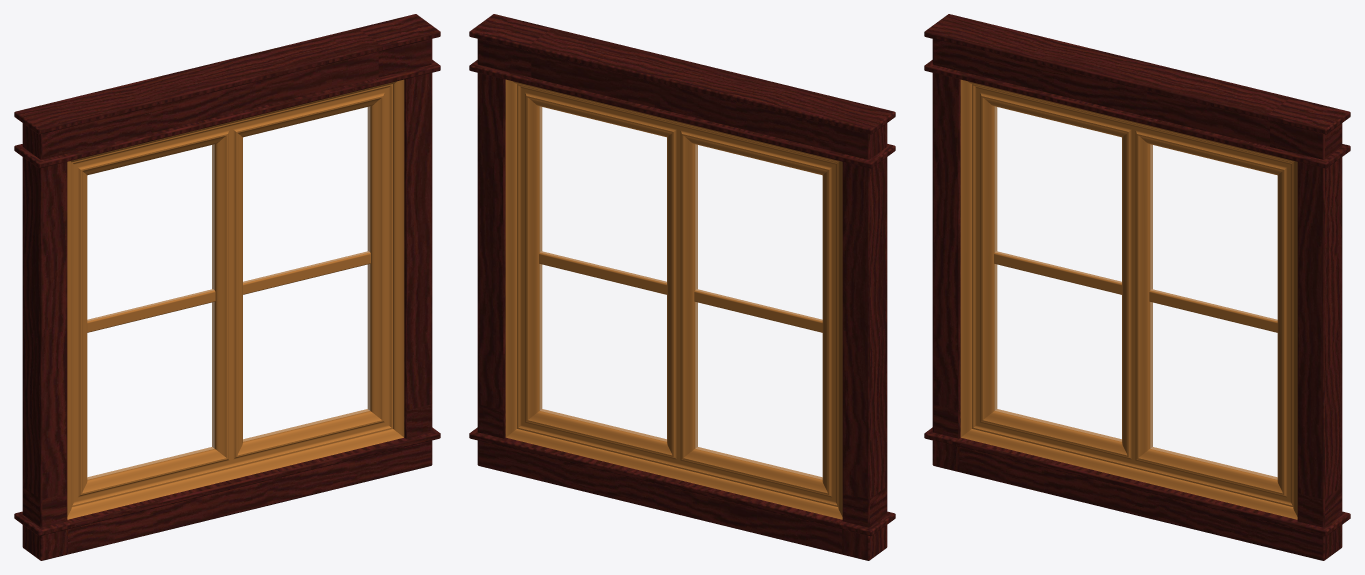
File: Project Name.gltf
3 views of the same model, side by side, from view 1: azimuth 30°, elevation 25°; view 2: azimuth 150°, elevation 25°; view 3: azimuth 330°, elevation 25° (orthographic).
Visible parts, largest first — view 1: Glass_Square (×4), External_Frame_Square, Internal_Frame_Square; view 2: Glass_Square (×4), External_Frame_Square, Internal_Frame_Square; view 3: Glass_Square (×4), External_Frame_Square, Internal_Frame_Square.
Part boxes in pixels (left/top/right/bottom): Glass_Square (×4): left=87, top=107, right=369, bottom=478; External_Frame_Square: left=14, top=14, right=440, bottom=560; Internal_Frame_Square: left=67, top=79, right=404, bottom=519; Glass_Square (×4): left=540, top=107, right=822, bottom=478; External_Frame_Square: left=469, top=14, right=895, bottom=560; Internal_Frame_Square: left=505, top=79, right=842, bottom=519; Glass_Square (×4): left=995, top=107, right=1277, bottom=478; External_Frame_Square: left=924, top=14, right=1350, bottom=560; Internal_Frame_Square: left=960, top=79, right=1297, bottom=519.
Size of the model in its own units: 0.0745 by 0.077 by 0.008.
6 materials, 1 textured.
